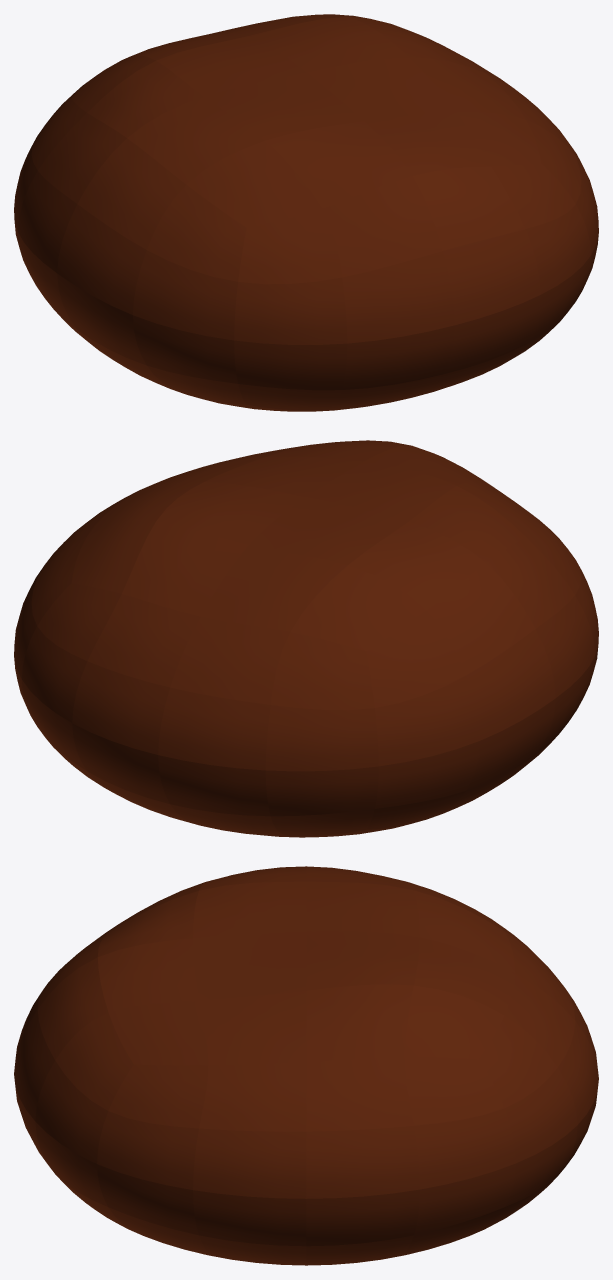
The model's file is burnt partty.fbx.
3 renders of one model, top to bottom at view 1: azimuth 30°, elevation 25°; view 2: azimuth 150°, elevation 25°; view 3: azimuth 270°, elevation 25°, orthographic.
Visible parts, largest first — view 1: Cube.002; view 2: Cube.002; view 3: Cube.002.
Boxes of the visible parts, left/top/right/bottom form: Cube.002: left=14, top=14, right=598, bottom=411; Cube.002: left=14, top=440, right=598, bottom=837; Cube.002: left=14, top=866, right=598, bottom=1265.
Bounding box in the file's own units: 51.33 × 28.75 × 52.9.
